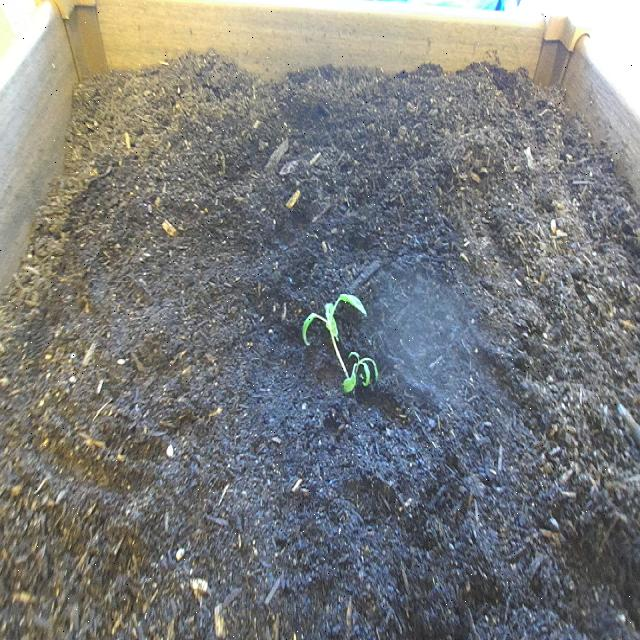Healthy: (301, 290, 383, 404)
